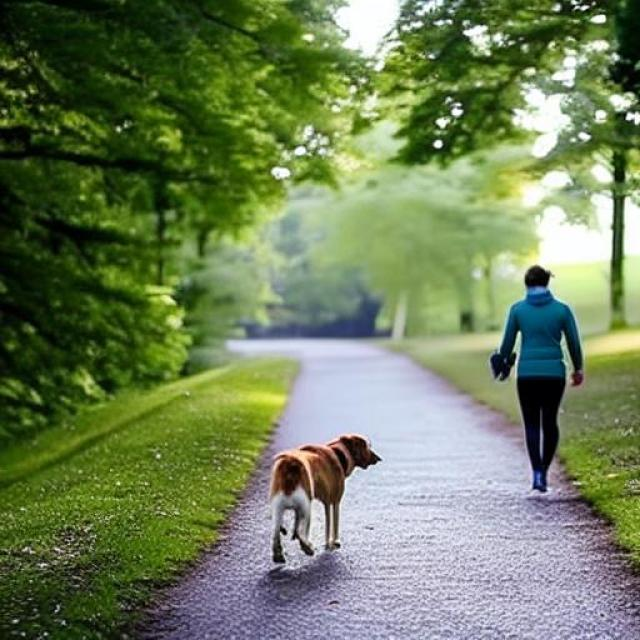Unleashed_Dog: (269, 358, 566, 564)
